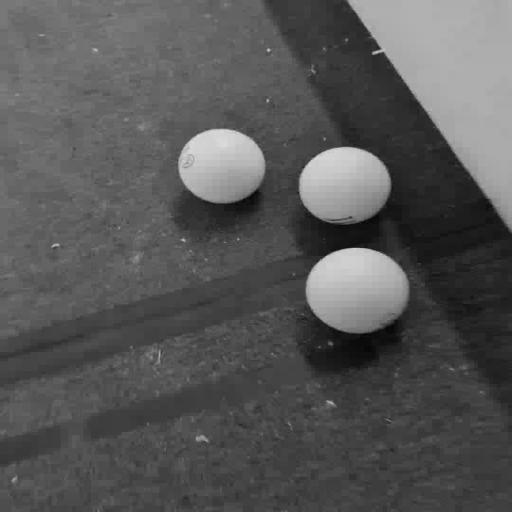fuel: (306, 248, 409, 333), (299, 147, 391, 225), (179, 129, 265, 203)
